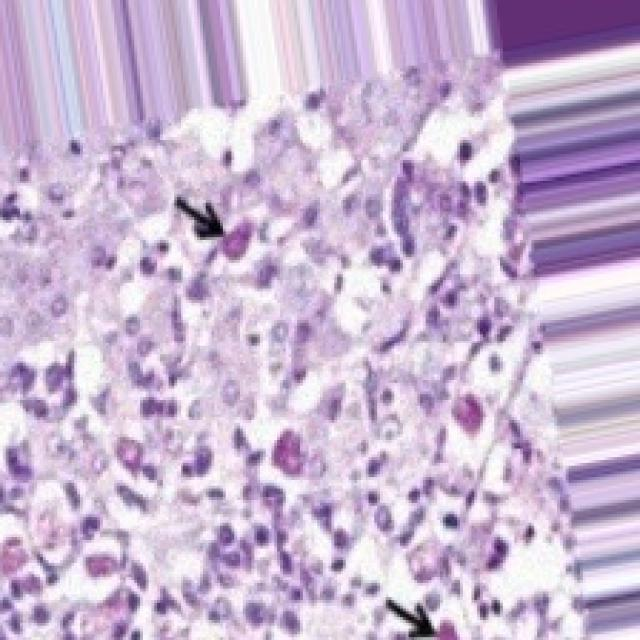Amoeba: (0, 51, 594, 637)
